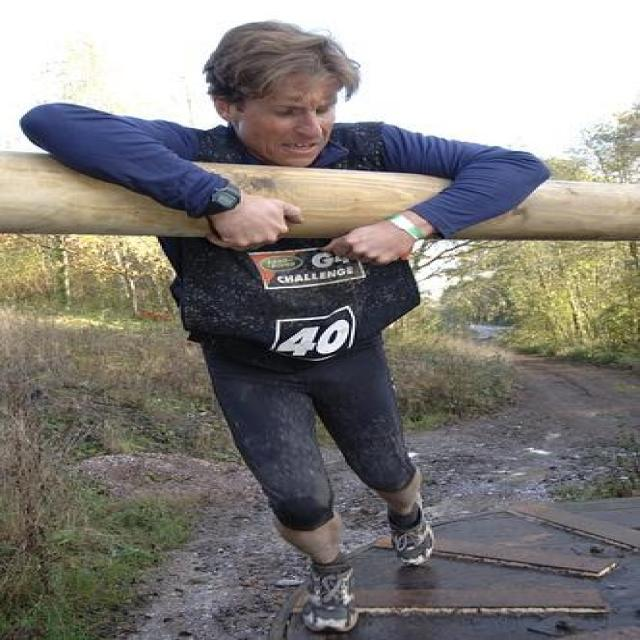No_Gloves: (170, 181, 307, 260), (335, 204, 420, 282)
